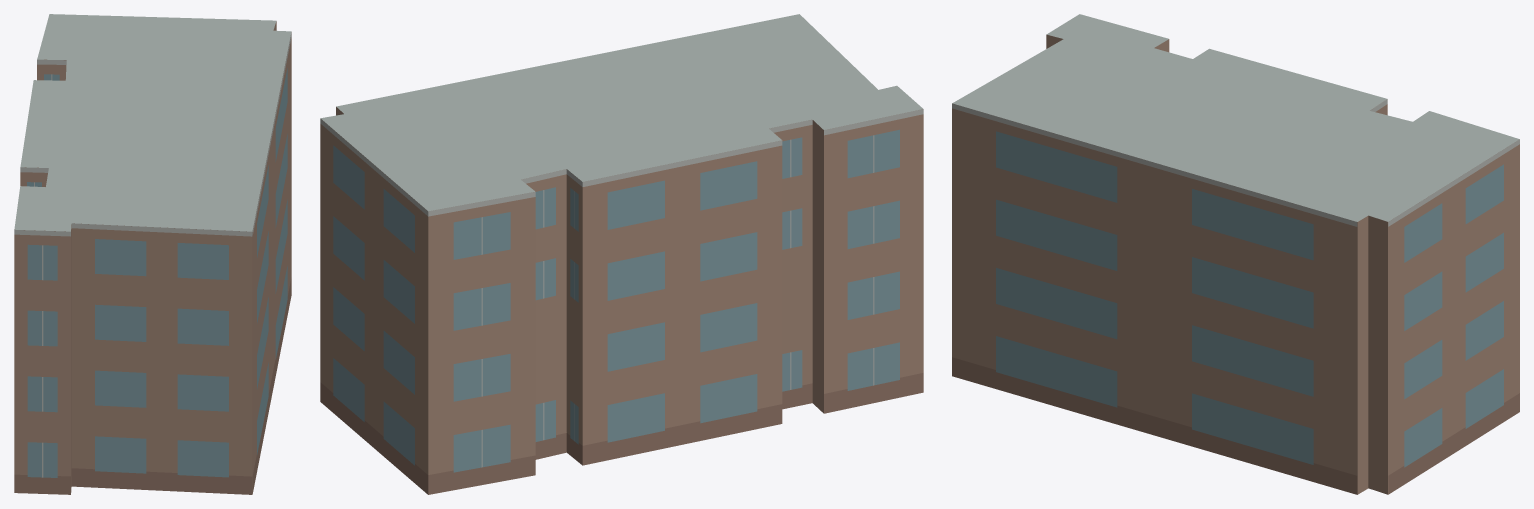
Rendered from survey-upis-32725088.glb.
3 views of the same model, side by side, from view 1: azimuth 30°, elevation 25°; view 2: azimuth 150°, elevation 25°; view 3: azimuth 270°, elevation 25° (orthographic). The views are drawn at different scales.
Parts seen in each view (by area): view 1: survey-upis-32725088.tmp; view 2: survey-upis-32725088.tmp; view 3: survey-upis-32725088.tmp.
Part boxes in pixels (box(x1,y1,x2,y2)): survey-upis-32725088.tmp: box(14, 14, 291, 494); survey-upis-32725088.tmp: box(320, 14, 923, 494); survey-upis-32725088.tmp: box(952, 14, 1519, 494).
Size of the model in its own units: 21.59 by 13.2 by 24.9.
